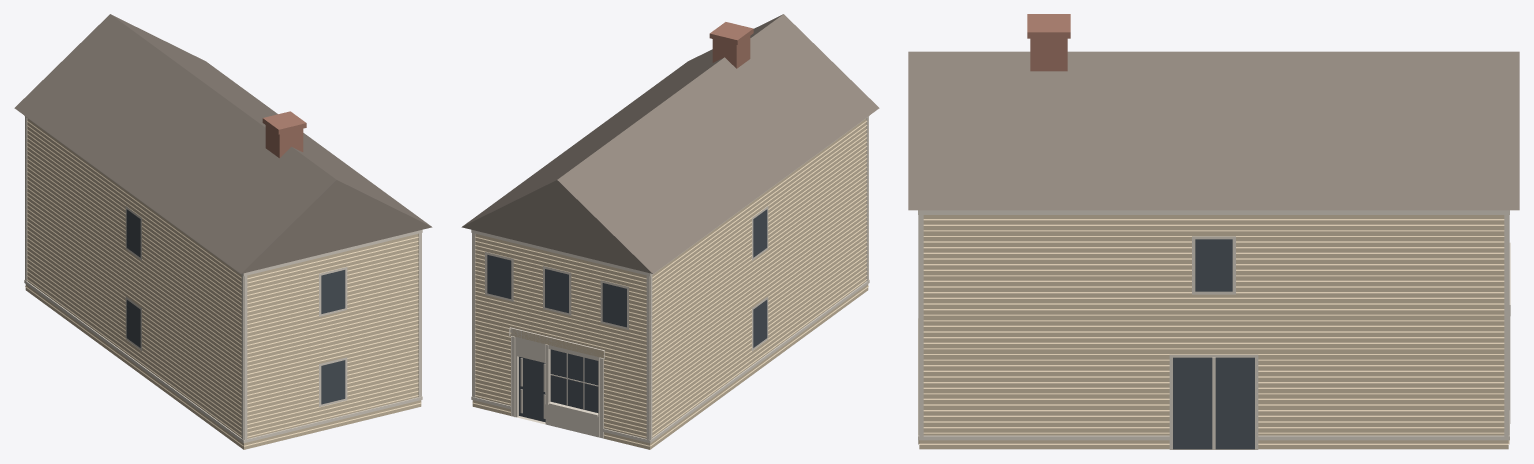
Rendered from recon_1835_blk_south_water_dearborn_c3_01__inferred_1835.glb.
3 renders of one model, left to right at view 1: azimuth 30°, elevation 25°; view 2: azimuth 150°, elevation 25°; view 3: azimuth 270°, elevation 25°, orthographic. The views are drawn at different scales.
Visible parts, largest first — view 1: recon_1835_blk_south_water_dearborn_c3_01__inferred_1835; view 2: recon_1835_blk_south_water_dearborn_c3_01__inferred_1835; view 3: recon_1835_blk_south_water_dearborn_c3_01__inferred_1835.
Boxes of the visible parts, x1,y1,x2,y2 form: recon_1835_blk_south_water_dearborn_c3_01__inferred_1835: (14, 14, 432, 449); recon_1835_blk_south_water_dearborn_c3_01__inferred_1835: (461, 14, 879, 449); recon_1835_blk_south_water_dearborn_c3_01__inferred_1835: (908, 14, 1519, 449).
Size of the model in its own units: 6.74 by 9.16 by 13.81.
